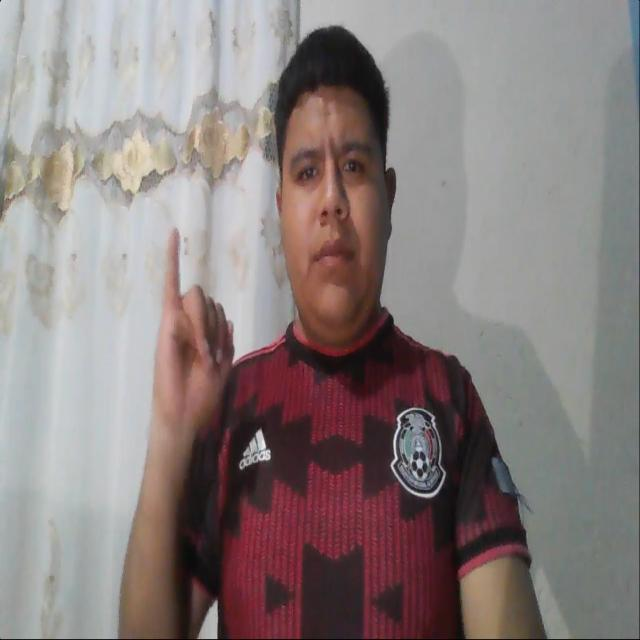I: (136, 208, 246, 442)
